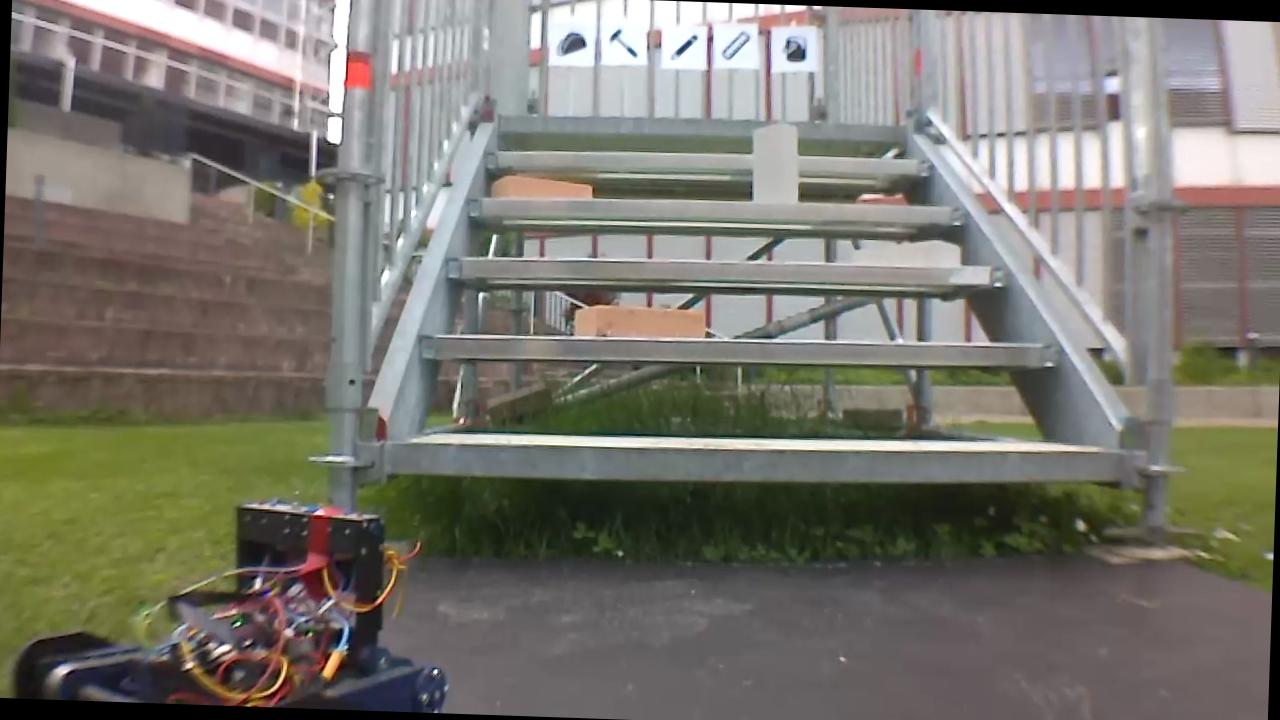brick: (571, 301, 703, 339), (753, 120, 799, 203), (856, 237, 959, 267), (492, 175, 590, 201)
bucket: (777, 29, 812, 66)
edge: (389, 424, 1117, 496), (419, 322, 1066, 375), (445, 248, 1011, 293), (466, 189, 964, 228), (486, 143, 931, 180), (497, 110, 899, 141)
hammer: (603, 28, 646, 61)
pencil: (667, 29, 699, 65)
ruler: (716, 28, 755, 66)
steps: (372, 99, 1134, 508)
taco: (551, 24, 595, 60)
